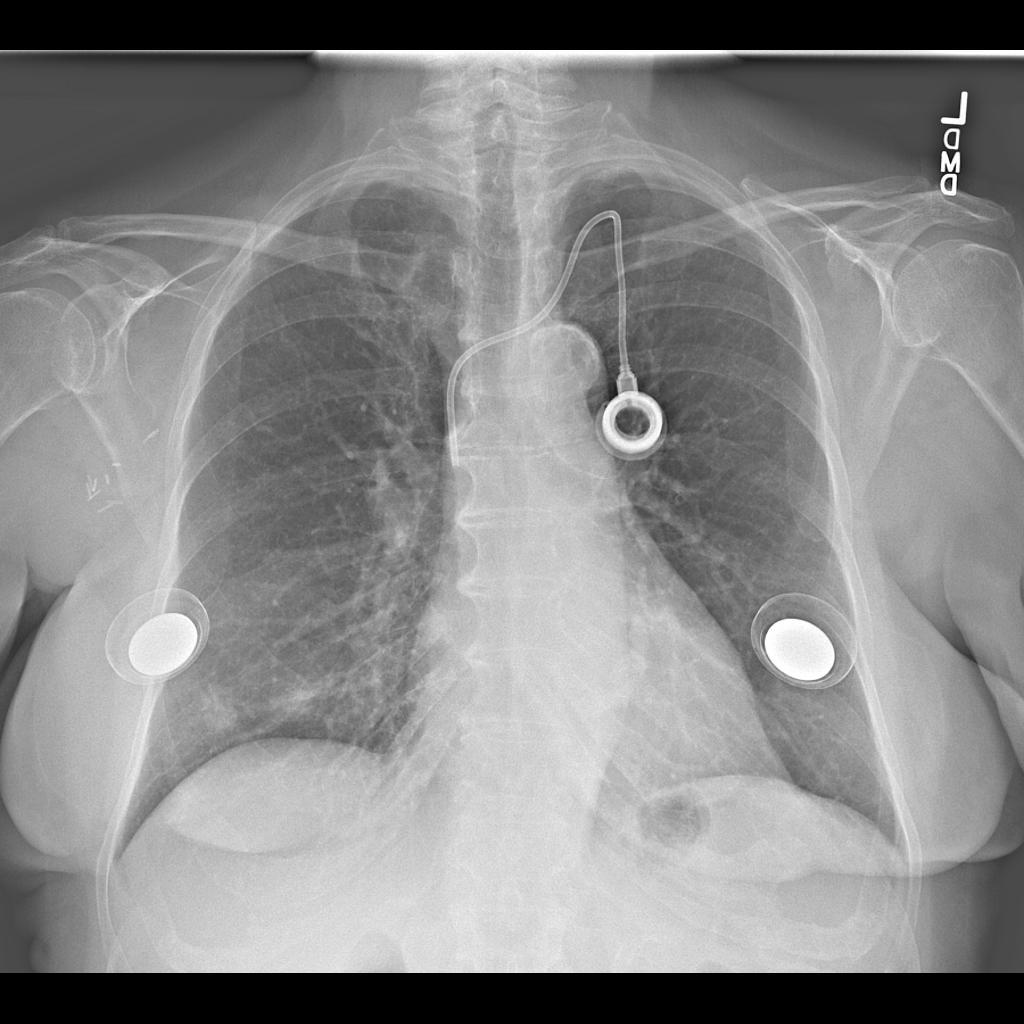Nodule: (197, 692, 251, 738)
